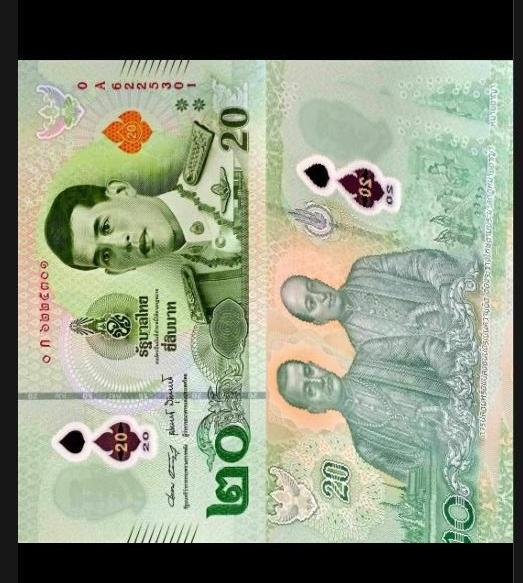20BahtTai: (269, 63, 511, 544)
